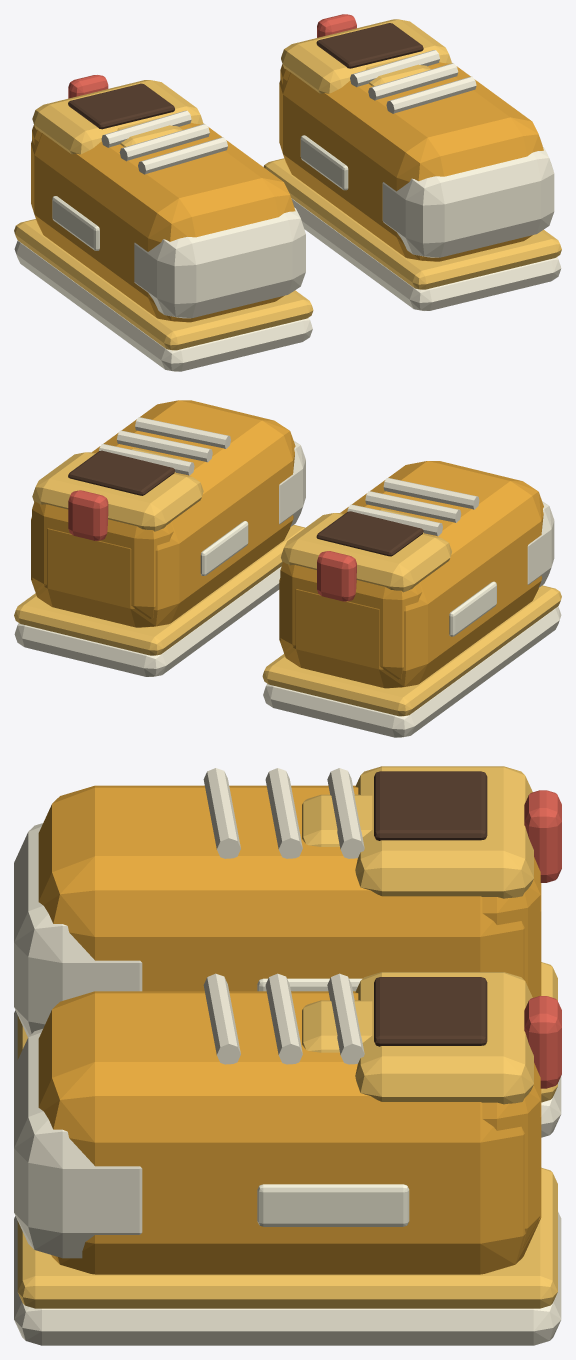
The model's file is shoes.glb.
3 renders of one model, top to bottom at view 1: azimuth 30°, elevation 25°; view 2: azimuth 150°, elevation 25°; view 3: azimuth 270°, elevation 25°, orthographic. The views are drawn at different scales.
Visible parts, largest first — view 1: R_Upper, L_Upper, R_ToeCap, L_ToeCap, L_SoleBand, R_SoleBand, L_Outsole, R_Outsole, R_AnkleCollar, L_AnkleCollar, L_AnkleOpening, R_AnkleOpening (+12 smaller); view 2: L_Upper, R_Upper, L_SoleBand, R_SoleBand, L_Outsole, R_Outsole, R_AnkleCollar, L_AnkleCollar, L_Heel, R_Heel, L_AnkleOpening, R_AnkleOpening (+12 smaller); view 3: R_Upper, L_Upper, R_SoleBand, R_Outsole, R_ToeCap, L_AnkleCollar, R_AnkleCollar, L_ToeCap, L_AnkleOpening, R_AnkleOpening, R_SideStripe.001, R_Heel (+14 smaller).
Boxes of the visible parts, bbox=[...] form: R_Upper: bbox=[279, 62, 543, 261]; L_Upper: bbox=[31, 123, 295, 322]; R_ToeCap: bbox=[382, 147, 554, 257]; L_ToeCap: bbox=[134, 207, 305, 318]; L_SoleBand: bbox=[14, 219, 313, 350]; R_SoleBand: bbox=[263, 158, 561, 289]; L_Outsole: bbox=[14, 240, 312, 371]; R_Outsole: bbox=[291, 198, 561, 310]; R_AnkleCollar: bbox=[281, 19, 451, 93]; L_AnkleCollar: bbox=[32, 80, 203, 154]; L_AnkleOpening: bbox=[68, 83, 174, 129]; R_AnkleOpening: bbox=[316, 23, 423, 68]; L_Upper: bbox=[279, 461, 543, 688]; R_Upper: bbox=[31, 400, 295, 627]; L_SoleBand: bbox=[262, 585, 561, 716]; R_SoleBand: bbox=[14, 525, 305, 655]; L_Outsole: bbox=[263, 606, 561, 737]; R_Outsole: bbox=[14, 566, 281, 676]; R_AnkleCollar: bbox=[32, 452, 203, 531]; L_AnkleCollar: bbox=[281, 513, 451, 592]; L_Heel: bbox=[280, 562, 422, 679]; R_Heel: bbox=[32, 501, 173, 618]; L_AnkleOpening: bbox=[316, 511, 423, 556]; R_AnkleOpening: bbox=[68, 450, 174, 495]; R_Upper: bbox=[38, 991, 541, 1274]; L_Upper: bbox=[38, 785, 541, 995]; R_SoleBand: bbox=[17, 1167, 557, 1308]; R_Outsole: bbox=[14, 1212, 561, 1345]; R_ToeCap: bbox=[14, 1029, 142, 1258]; L_AnkleCollar: bbox=[355, 766, 533, 898]; R_AnkleCollar: bbox=[355, 972, 533, 1104]; L_ToeCap: bbox=[14, 823, 142, 1037]; L_AnkleOpening: bbox=[374, 771, 487, 840]; R_AnkleOpening: bbox=[374, 977, 487, 1046]; R_SideStripe.001: bbox=[257, 1184, 409, 1226]; R_Heel: bbox=[482, 1063, 540, 1248].
Bounding box in the file's own units: 0.778 × 0.315 × 0.5405.
